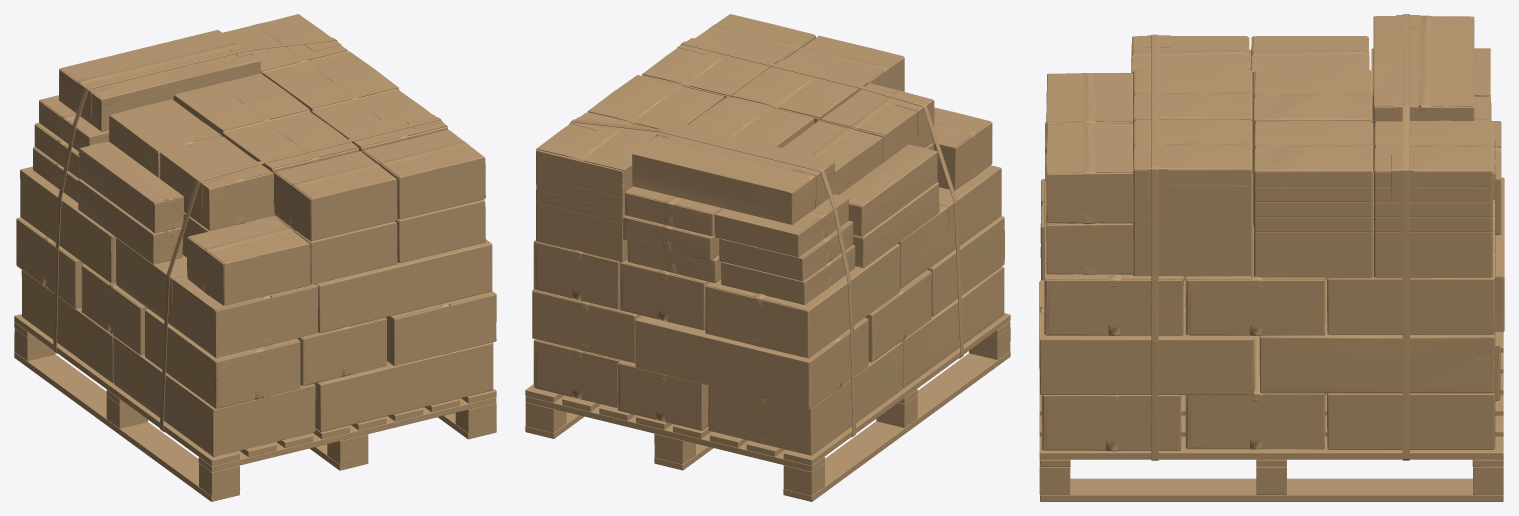
Rendered from pallet_assembly_brown_e05.glb.
3 renders of one model, left to right at view 1: azimuth 30°, elevation 25°; view 2: azimuth 150°, elevation 25°; view 3: azimuth 270°, elevation 25°, orthographic. The views are drawn at different scales.
Bounding box in the file's own units: 1.01 × 0.9798 × 1.2.
